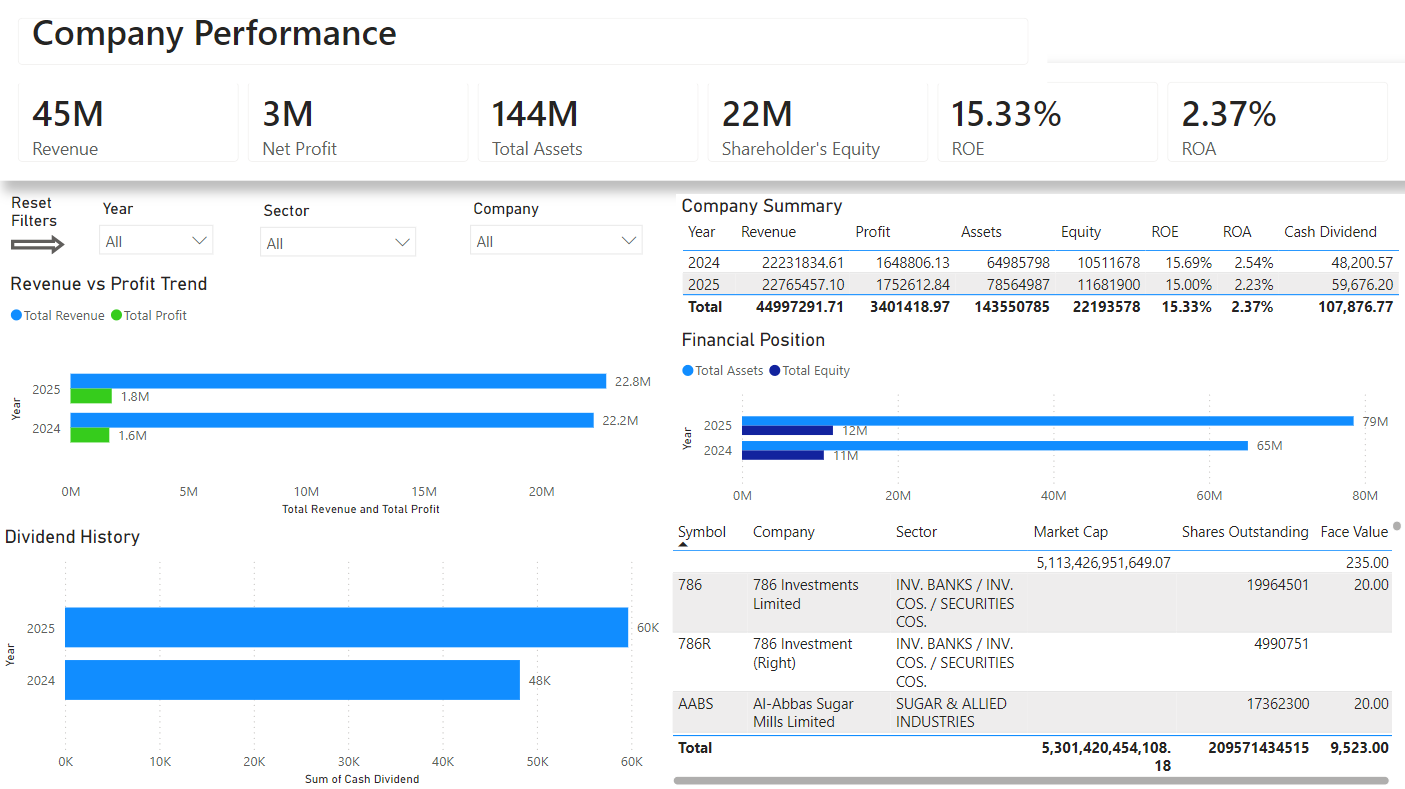

The page's visual inventory and layout, read from the dashboard file:
{"tool":"powerbi","page":{"name":"Company Performance","canvas":[1280,720],"ordinal":1},"visuals":[{"type":"slicer","fields":{"Values":["FactFinancials.Name of Company"]},"box":[418,177,177,147],"z":0},{"type":"slicer","fields":{"Values":["FactFinancials.Year"]},"box":[81,177,124,147],"z":1000},{"type":"slicer","fields":{"Values":["DimCompany.Sector"]},"box":[227,179,162,131],"z":2000},{"type":"cardVisual","fields":{"Data":["Measure.Total Revenue","Measure.Total Profit","Measure.Total Assets","Measure.Total Equity","Measure.ROE","Measure.ROA"]},"box":[0,58,1280,107],"z":3000},{"type":"clusteredBarChart","title":"Revenue vs Profit Trend","fields":{"Category":["FactFinancials.Year"],"Y":["Measure.Total Revenue","Measure.Total Profit"]},"box":[0,244,615,231],"z":4000},{"type":"clusteredBarChart","title":"Financial Position","fields":{"Category":["FactFinancials.Year"],"Y":["Measure.Total Assets","Measure.Total Equity"]},"box":[615,299,665,170],"z":5000},{"type":"clusteredBarChart","title":"Dividend History","fields":{"Category":["FactFinancials.Year"],"Y":["Sum(FactFinancials.Cash Dividend)"]},"box":[0,478,615,242],"z":6000},{"type":"tableEx","fields":{"Values":["DimCompany.Symbol","DimCompany.Company Name","DimCompany.Sector","Measure.Total Market Cap","Sum(DimCompany.Shares Outstanding)","Sum(FactFinancials.Face Value)"]},"box":[606,469,674,251],"z":7000},{"type":"tableEx","title":"Company Summary","fields":{"Values":["FactFinancials.Year","Measure.Total Revenue","Measure.Total Profit","Measure.Total Assets","Measure.Total Equity","Measure.ROE","Measure.ROA","Sum(FactFinancials.Cash Dividend)"]},"box":[615,177,665,122],"z":8000},{"type":"cardVisual","title":"Company Analysis","fields":{"Data":["Measure.Company Title"]},"box":[0,0,953,77],"z":9000},{"type":"actionButton","title":"Reset Filters","box":[11,177,49,55],"z":10000}]}

Visuals, with their boxes in screenshot pixels (x1, y1, x2, y2), scaled from the page's 1280x720 canvas onto the 1405x789 screenshot:
slicer - FactFinancials.Name of Company: box=[459, 194, 653, 355]
slicer - FactFinancials.Year: box=[89, 194, 225, 355]
slicer - DimCompany.Sector: box=[249, 196, 427, 340]
cardVisual - Measure.Total Revenue x Measure.Total Profit: box=[0, 64, 1404, 181]
"Revenue vs Profit Trend" clusteredBarChart: box=[0, 267, 675, 521]
"Financial Position" clusteredBarChart: box=[675, 328, 1404, 514]
"Dividend History" clusteredBarChart: box=[0, 524, 675, 788]
tableEx - DimCompany.Symbol x DimCompany.Company Name: box=[665, 514, 1404, 788]
"Company Summary" tableEx: box=[675, 194, 1404, 328]
"Company Analysis" cardVisual: box=[0, 0, 1046, 84]
"Reset Filters" actionButton: box=[12, 194, 66, 254]
